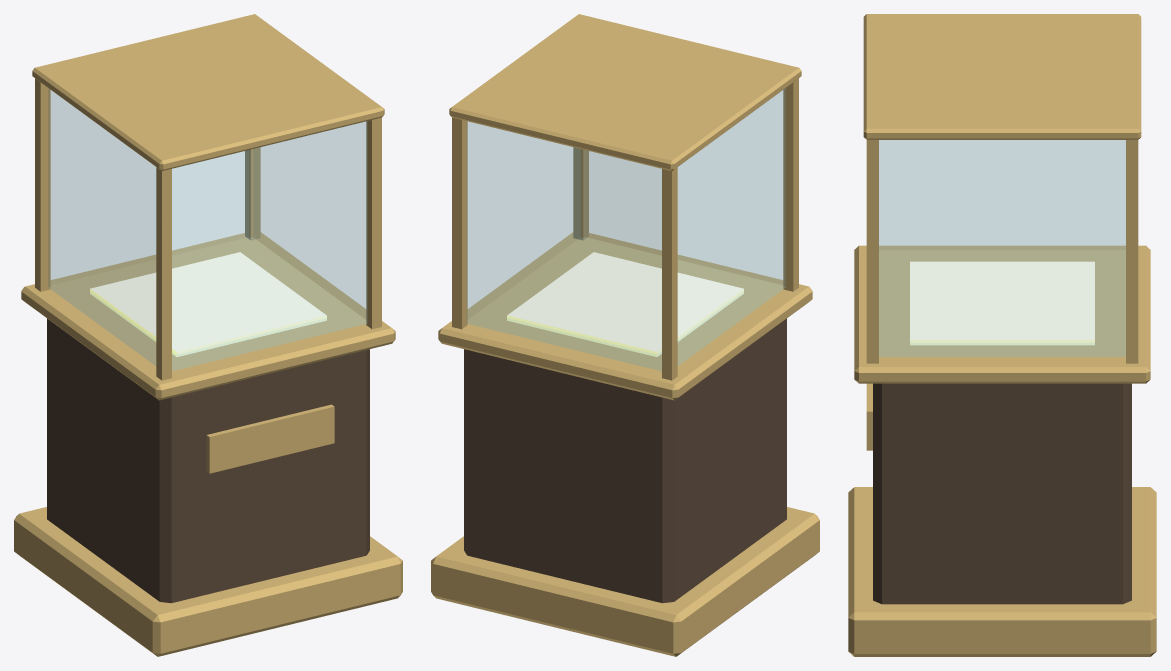
File: lt_trophy_ex.glb
The picture shows the model from 3 angles, left to right: view 1: azimuth 30°, elevation 25°; view 2: azimuth 150°, elevation 25°; view 3: azimuth 270°, elevation 25°; orthographic projection. The views are drawn at different scales.
Parts seen in each view (by area): view 1: lt_trophy_ex; view 2: lt_trophy_ex; view 3: lt_trophy_ex.
Part boxes in pixels (x1,y1,x2,y2): lt_trophy_ex: [14, 14, 402, 656]; lt_trophy_ex: [431, 14, 819, 656]; lt_trophy_ex: [848, 14, 1156, 656].
Size of the model in its own units: 1 by 1.87 by 1.
